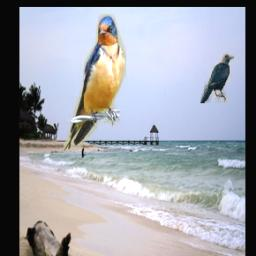Crow: (200, 54, 234, 104)
Swallow: (63, 14, 125, 151)
